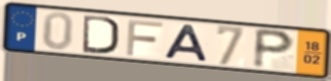0: (40, 10, 77, 52)
7: (214, 24, 248, 68)
A: (162, 23, 211, 64)
D: (81, 13, 121, 56)
F: (124, 18, 165, 57)
P: (251, 26, 297, 71)
